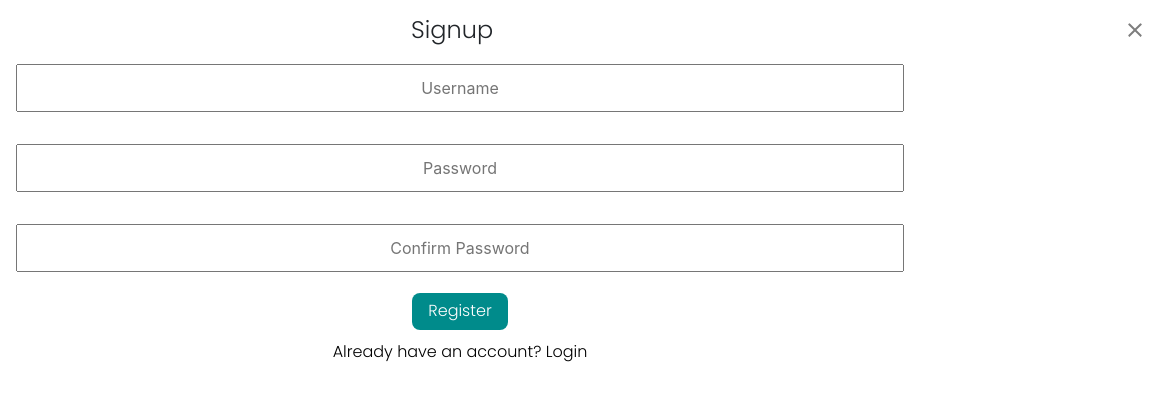
Scenario: Test SignupModalContent › Register fails on no inputs
The width and height of the screenshot is (1155, 403).
Click the button "Register" at (460, 311), box top-left (412, 293), bottom-right (508, 330)
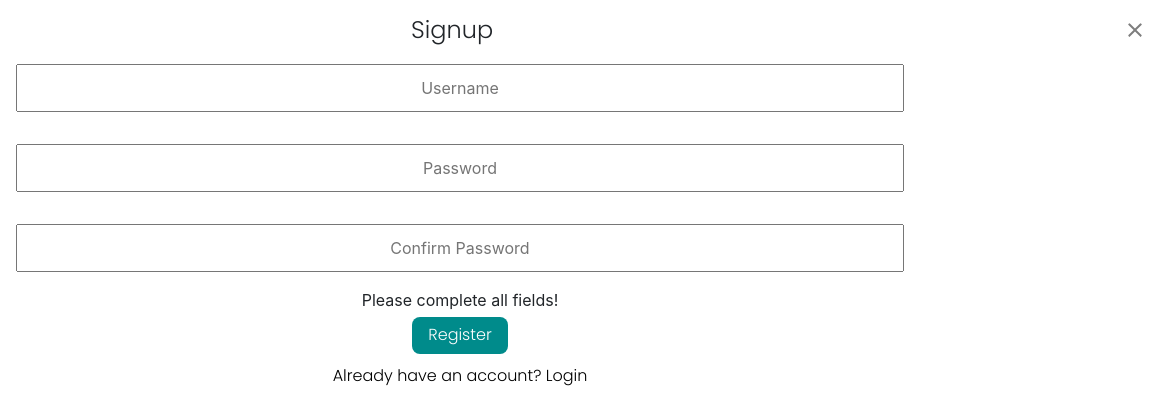
Now the text "Please complete all fields!" is shown, box top-left (362, 290), bottom-right (558, 310)
